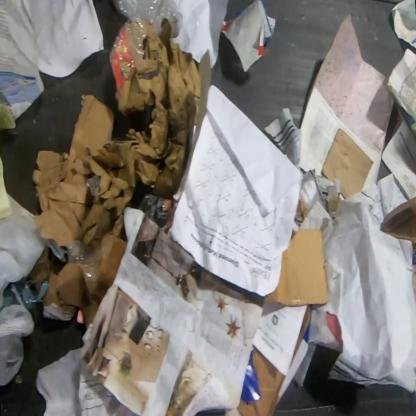cardboard: (27, 92, 136, 333), (262, 227, 328, 308), (321, 127, 374, 200), (236, 347, 286, 415), (380, 195, 415, 252), (293, 305, 312, 359)
soft_plastic: (0, 211, 68, 388), (108, 0, 184, 93), (65, 238, 103, 304), (2, 276, 50, 312), (41, 303, 76, 321), (83, 172, 100, 198)
